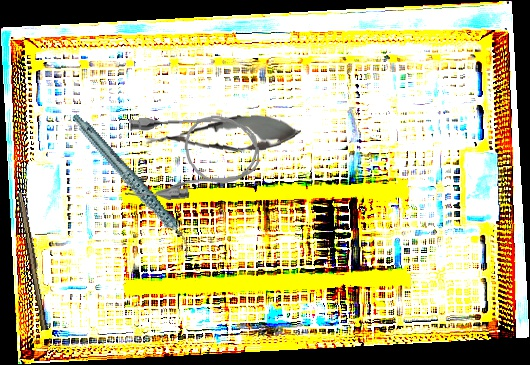Cannula: (120, 110, 262, 203)
Handpiece: (71, 95, 194, 272)
Micro Scissor: (143, 111, 303, 160)
Scalpel Handle: (14, 191, 52, 331)
